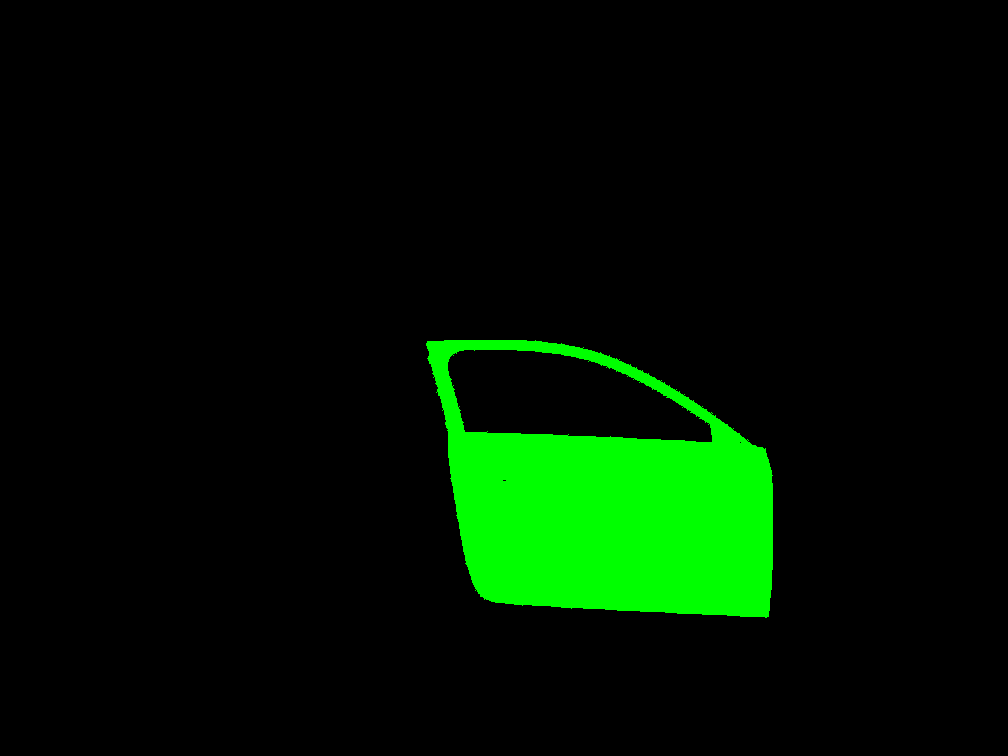car_door: (426, 340, 772, 617)
